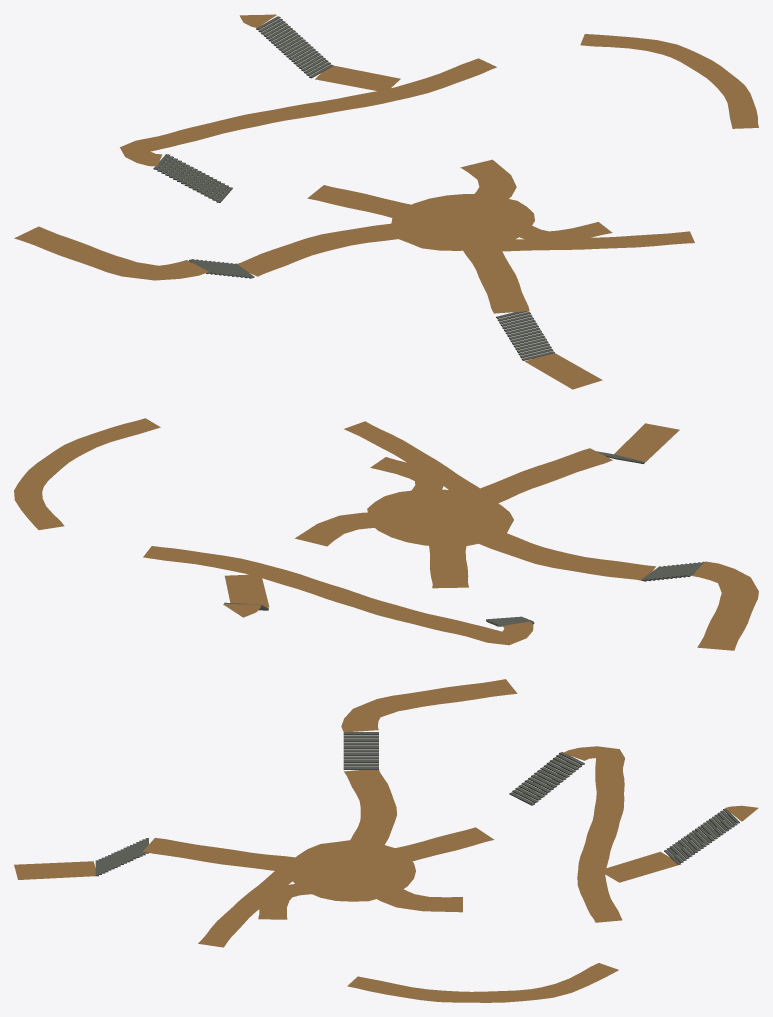
Rendered from paths.glb.
3 renders of one model, top to bottom at view 1: azimuth 30°, elevation 25°; view 2: azimuth 150°, elevation 25°; view 3: azimuth 270°, elevation 25°, orthographic. The views are drawn at different scales.
Parts seen in each view (by area): view 1: NorthRoad, WestRoad, EastTrail, SouthRoad, Exit, VillagePlaza, DockRoad, ShopRoad, InnRoad, WeaponLane, Entry, MineRoad; view 2: NorthRoad, WestRoad, EastTrail, SouthRoad, Exit, VillagePlaza, ShopRoad, DockRoad, InnRoad, WeaponLane, Entry, MineRoad; view 3: NorthRoad, WestRoad, EastTrail, SouthRoad, Exit, VillagePlaza, ShopRoad, DockRoad, InnRoad, WeaponLane, Entry, MineRoad.
Part boxes in pixels (x1=…): NorthRoad: x1=120, y1=58, x2=496, y2=166; WestRoad: x1=237, y1=217, x2=453, y2=276; EastTrail: x1=580, y1=34, x2=758, y2=128; SouthRoad: x1=445, y1=222, x2=529, y2=313; Exit: x1=14, y1=226, x2=208, y2=280; VillagePlaza: x1=391, y1=194, x2=534, y2=250; DockRoad: x1=493, y1=231, x2=694, y2=251; ShopRoad: x1=446, y1=159, x2=516, y2=225; InnRoad: x1=307, y1=185, x2=461, y2=223; WeaponLane: x1=488, y1=214, x2=612, y2=239; Entry: x1=525, y1=353, x2=602, y2=389; MineRoad: x1=315, y1=65, x2=400, y2=92; NorthRoad: x1=143, y1=546, x2=533, y2=645; WestRoad: x1=437, y1=517, x2=655, y2=580; EastTrail: x1=14, y1=418, x2=160, y2=529; SouthRoad: x1=432, y1=448, x2=612, y2=523; Exit: x1=692, y1=561, x2=758, y2=650; VillagePlaza: x1=367, y1=489, x2=513, y2=545; ShopRoad: x1=295, y1=510, x2=441, y2=546; DockRoad: x1=344, y1=421, x2=483, y2=497; InnRoad: x1=429, y1=518, x2=468, y2=588; WeaponLane: x1=370, y1=457, x2=443, y2=508; Entry: x1=614, y1=423, x2=679, y2=461; MineRoad: x1=224, y1=574, x2=269, y2=607; NorthRoad: x1=563, y1=746, x2=624, y2=922; WestRoad: x1=337, y1=770, x2=396, y2=867; EastTrail: x1=347, y1=963, x2=618, y2=1002; SouthRoad: x1=143, y1=837, x2=355, y2=877; Exit: x1=341, y1=679, x2=517, y2=732; VillagePlaza: x1=293, y1=840, x2=415, y2=901; ShopRoad: x1=338, y1=867, x2=462, y2=912; DockRoad: x1=198, y1=868, x2=301, y2=947; InnRoad: x1=352, y1=827, x2=494, y2=870; WeaponLane: x1=258, y1=880, x2=345, y2=919; Entry: x1=14, y1=861, x2=96, y2=879; MineRoad: x1=599, y1=851, x2=681, y2=882.
Size of what is drawn, in the model's own units: 88.72 by 10.03 by 84.16.
